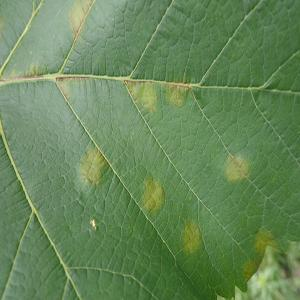Folha: (0, 0, 299, 299)
Fungo: (79, 146, 109, 188), (124, 80, 158, 114), (140, 176, 166, 215), (225, 151, 251, 183), (182, 219, 202, 256), (166, 83, 188, 108), (89, 218, 97, 230)
